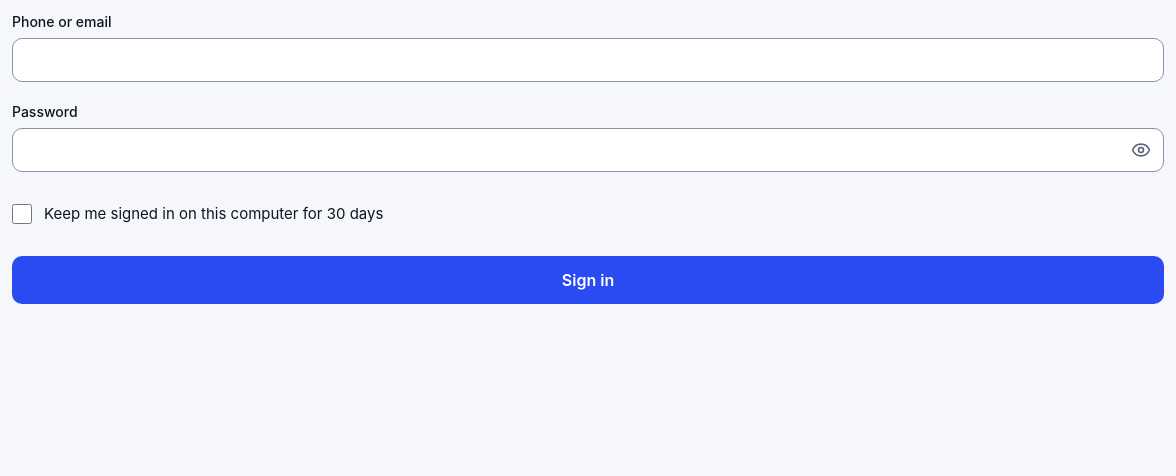
Scenario: AUTH-05 staff two-step (Staff Login 15b/15d) › shows a wrong code as one message and stays on the step
The image size is (1176, 476).
Type "owner@example.test" into the field labelled "Phone or email" at (588, 60), box 12,38 -> 1164,82
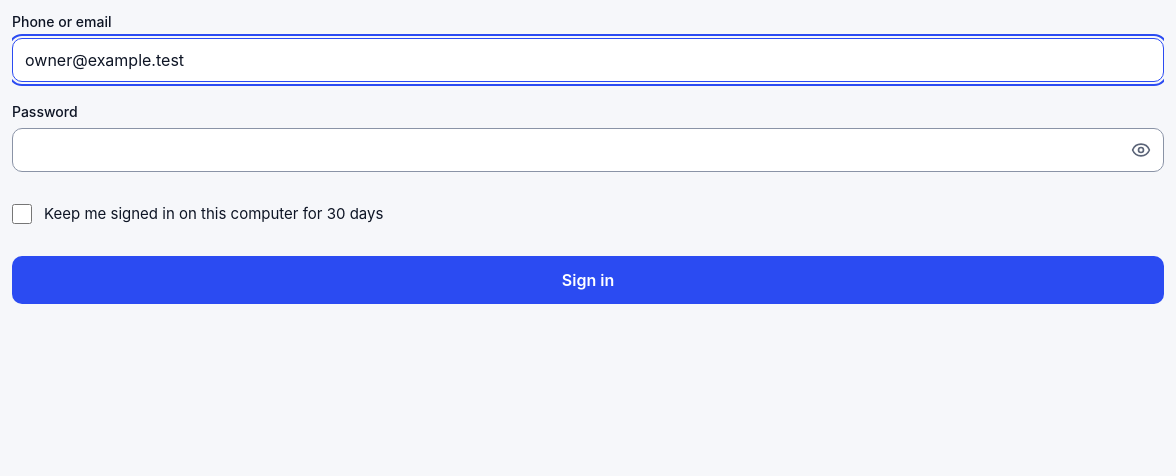
Type "correct horse" into the password field labelled "Password" at (566, 150), box 13,129 -> 1119,171
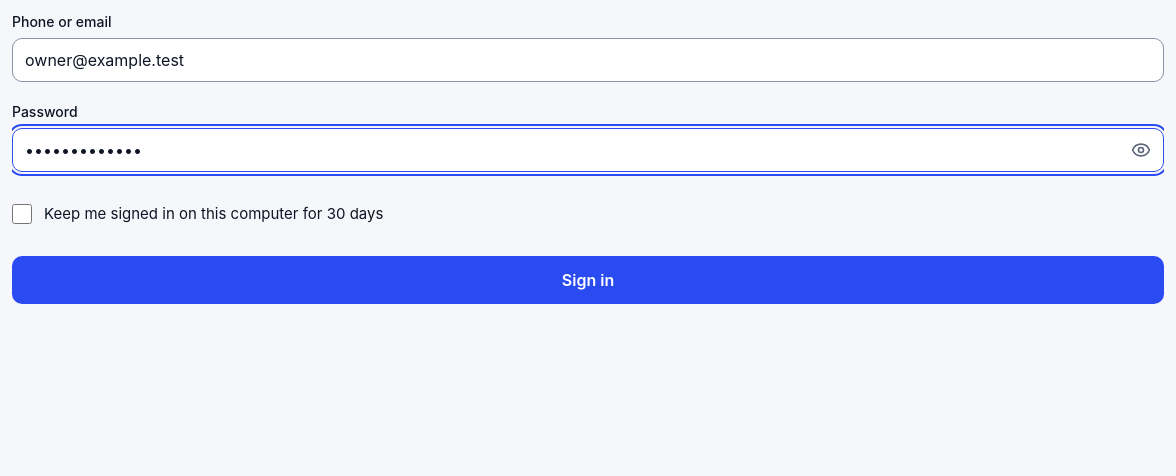
Click the button "Sign in" at (588, 280), box 12,256 -> 1164,304
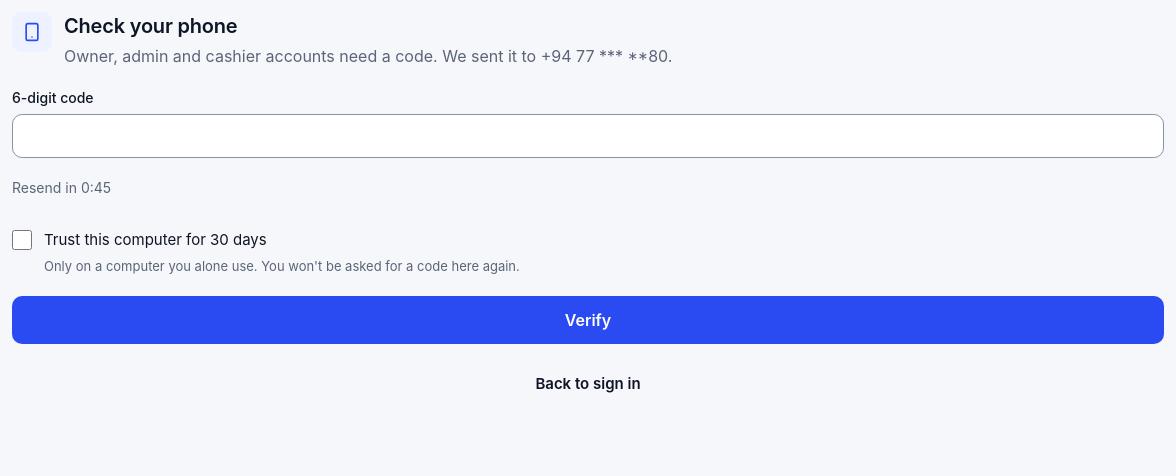
expect the heading "Check your phone" is shown: met, box 64,14 -> 238,38
Type "000000" into the field labelled "6-digit code" at (588, 136), box 12,114 -> 1164,158
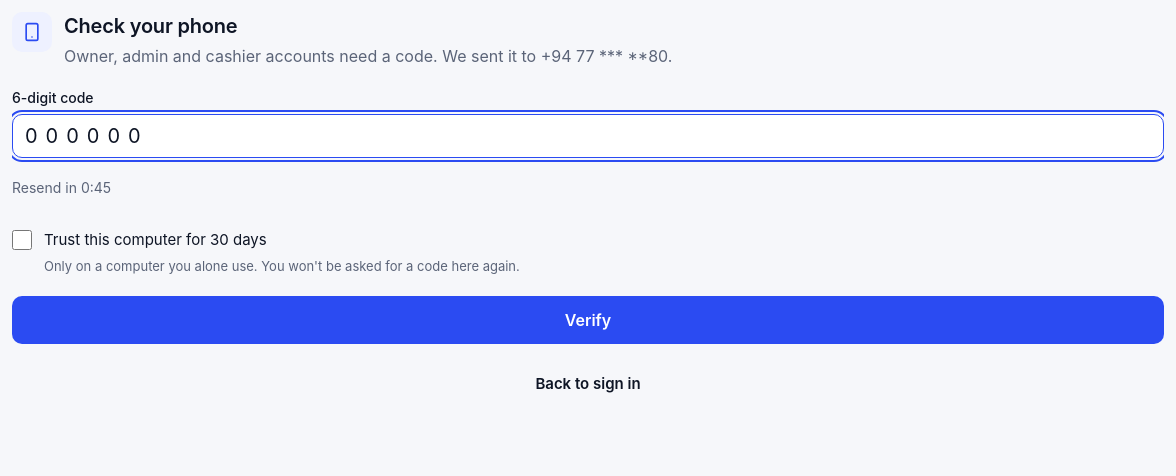
Click the button "Verify" at (588, 320), box 12,296 -> 1164,344
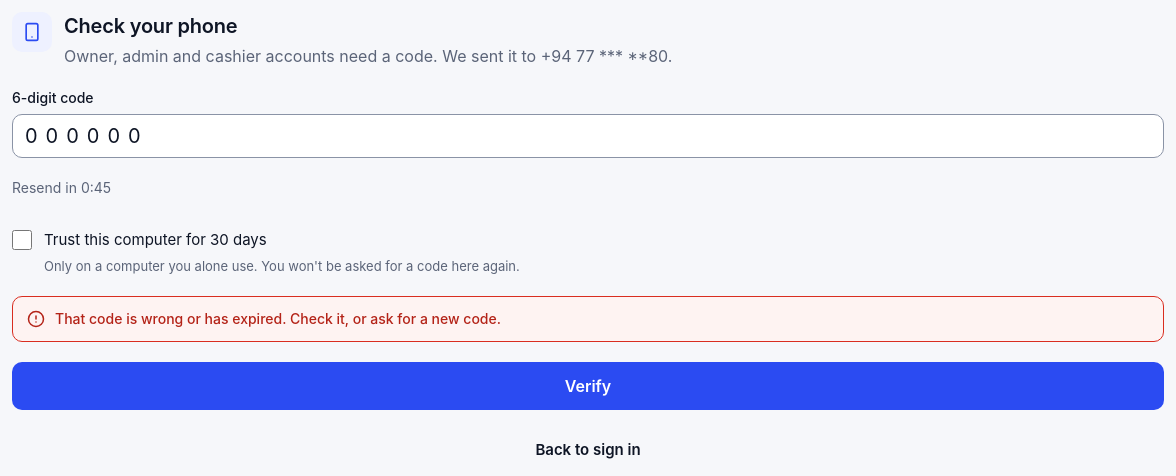
expect the message shows "That code is wrong or has expired.": met, box 55,310 -> 501,327
